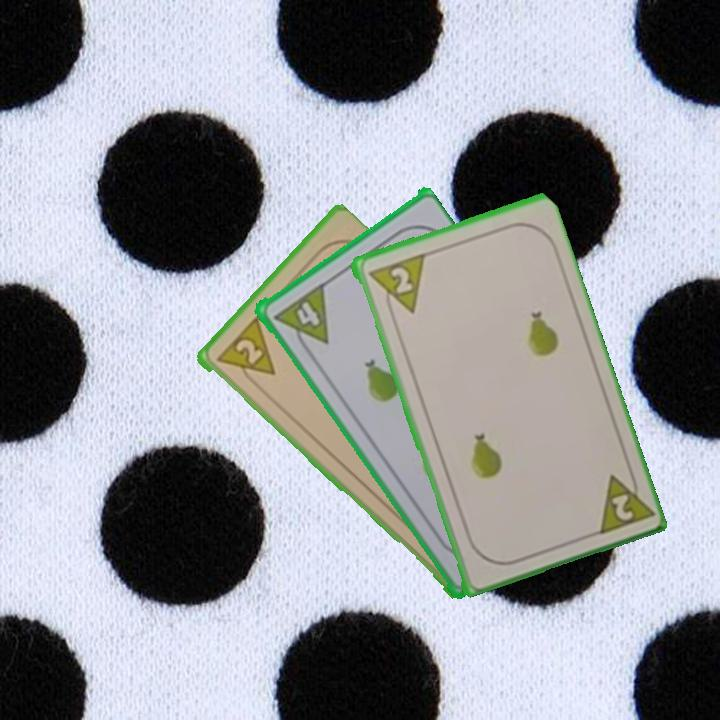2p: (212, 315, 278, 391), (590, 463, 654, 538), (364, 250, 427, 321)
4p: (288, 283, 332, 343)
